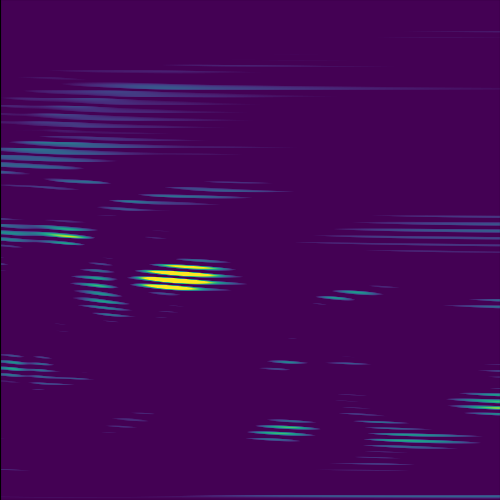semblance: (129, 256, 243, 299), (41, 221, 97, 249)
